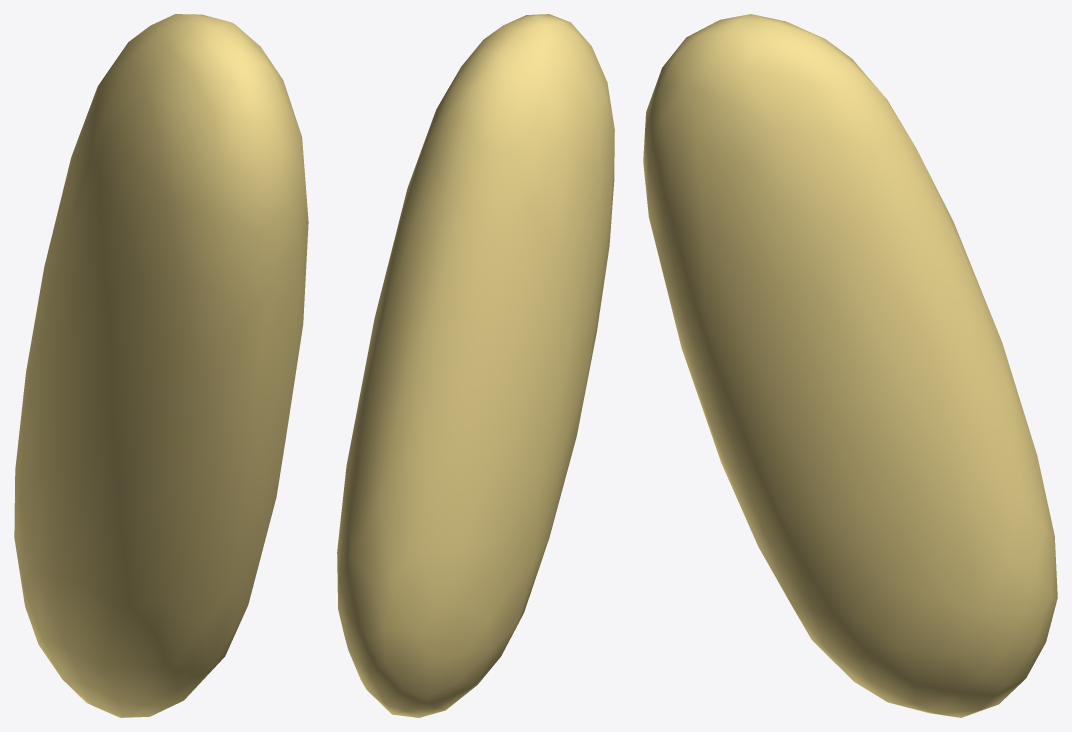
The model's file is fma73571_mm3511.glb.
3 views of the same model, side by side, from view 1: azimuth 30°, elevation 25°; view 2: azimuth 150°, elevation 25°; view 3: azimuth 270°, elevation 25° (orthographic). The views are drawn at different scales.
Parts seen in each view (by area): view 1: FMA73571_MM3511; view 2: FMA73571_MM3511; view 3: FMA73571_MM3511.
Boxes of the visible parts, box(x1,y1,x2,y2) form: FMA73571_MM3511: box(14, 14, 308, 717); FMA73571_MM3511: box(337, 14, 614, 717); FMA73571_MM3511: box(643, 14, 1057, 717).
Bounding box in the file's own units: 0.00136 × 0.00474 × 0.00261.
